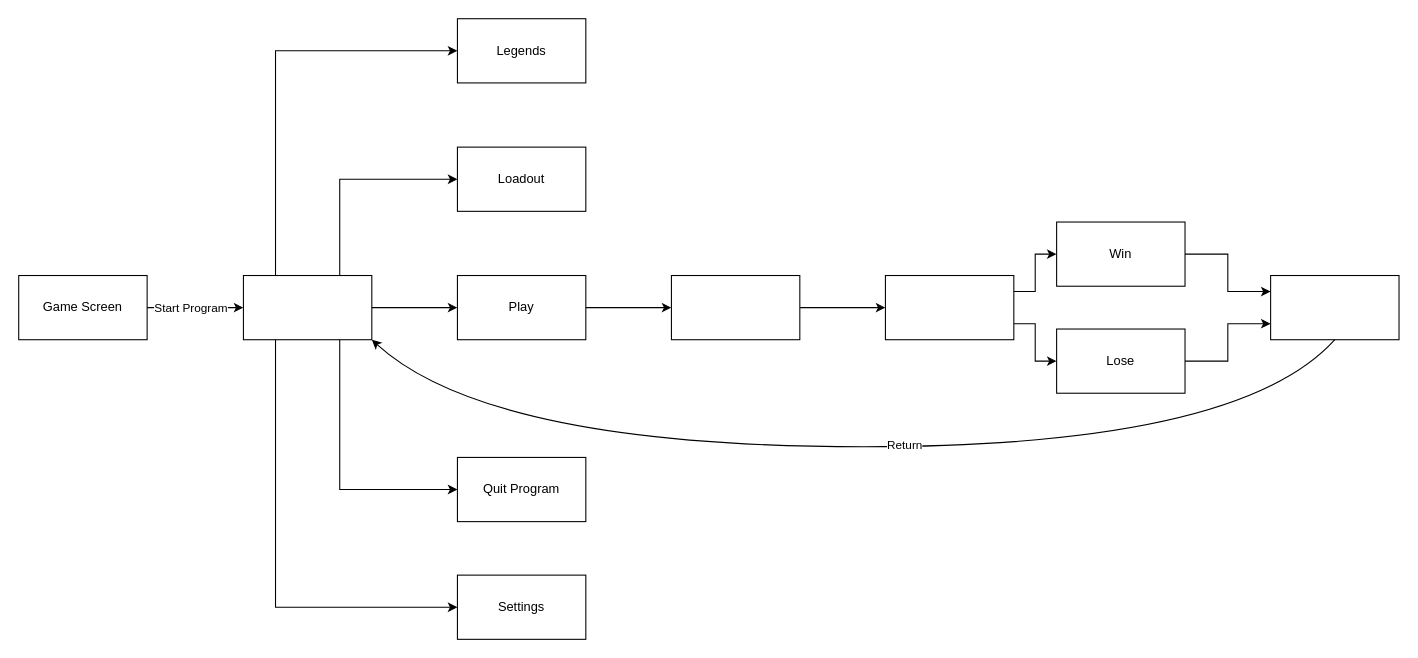
Some shapes in this 1418 by 658 pixel diagram are drawn without their labels. The centre of each missing label's shape, as x and y in pixels:
Gameplay: the point at 949,307
Main Screen: the point at 307,307
Select Game Mode: the point at 735,307
Summary Screen: the point at 1334,307
